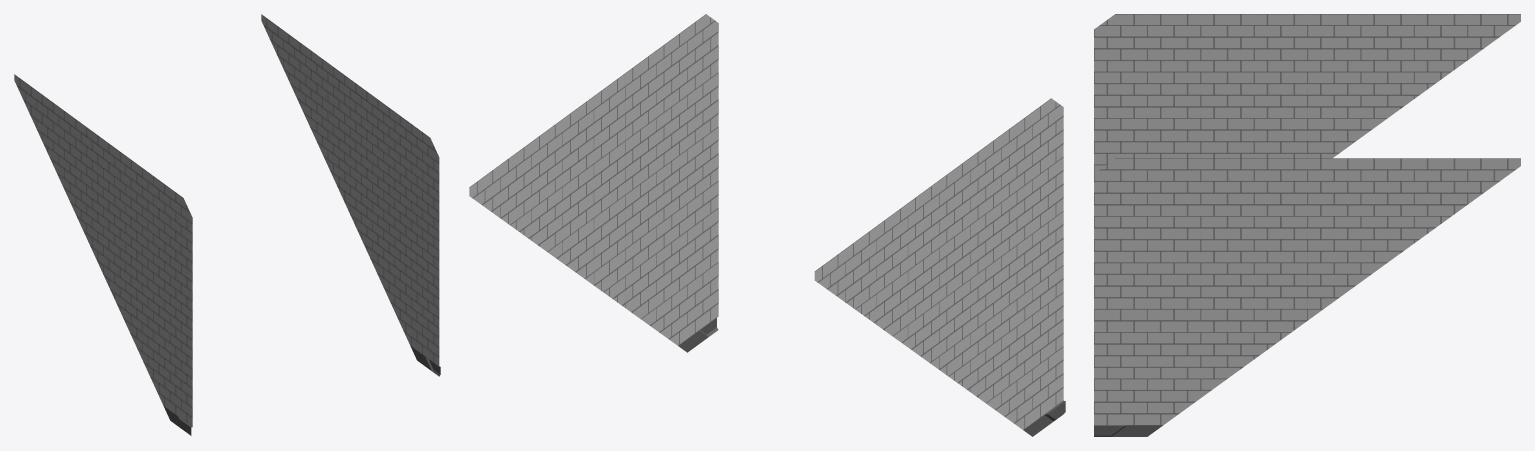
The model's file is SW_ENV_StationStair_Long_Surround_Lower_FF.fbx.
3 views of the same model, side by side, from view 1: azimuth 30°, elevation 25°; view 2: azimuth 150°, elevation 25°; view 3: azimuth 270°, elevation 25° (orthographic). The views are drawn at different scales.
Visible parts, largest first — view 1: SW_ENV_StationStair_Long_Surround_Lower_FF; view 2: SW_ENV_StationStair_Long_Surround_Lower_FF; view 3: SW_ENV_StationStair_Long_Surround_Lower_FF.
Boxes of the visible parts, x1,y1,x2,y2 form: SW_ENV_StationStair_Long_Surround_Lower_FF: (14, 14, 440, 435); SW_ENV_StationStair_Long_Surround_Lower_FF: (469, 14, 1065, 436); SW_ENV_StationStair_Long_Surround_Lower_FF: (1094, 14, 1520, 436).
Size of the model in its own units: 404 by 360 by 500.
